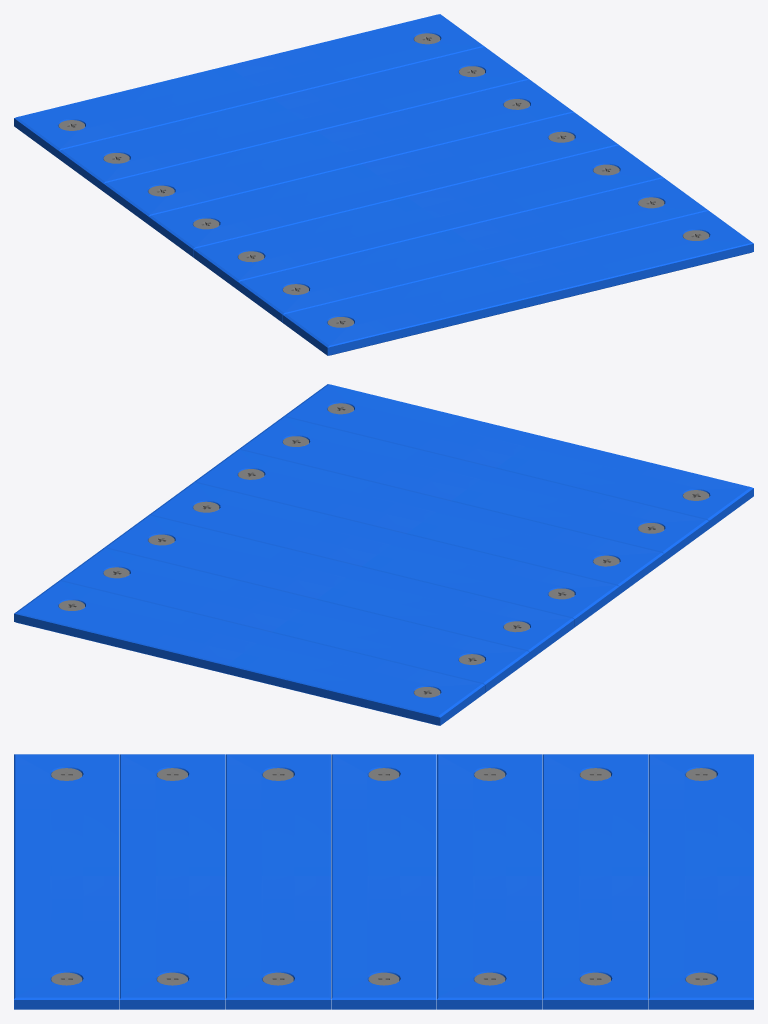
The model's file is BoltedPlankFloorBlue.fbx.
3 views of the same model, one above another, from view 1: azimuth 30°, elevation 25°; view 2: azimuth 150°, elevation 25°; view 3: azimuth 270°, elevation 25° (orthographic). The views are drawn at different scales.
Parts seen in each view (by area): view 1: Cube, Cube.001; view 2: Cube, Cube.001; view 3: Cube, Cube.001.
Boxes of the visible parts, x1=… form: Cube: x1=14, y1=14, x2=753, y2=355; Cube.001: x1=58, y1=33, x2=709, y2=327; Cube: x1=14, y1=384, x2=753, y2=725; Cube.001: x1=58, y1=403, x2=709, y2=697; Cube: x1=14, y1=754, x2=753, y2=1009; Cube.001: x1=51, y1=768, x2=716, y2=985.
Size of the model in its own units: 21.97 by 0.4885 by 27.99.
